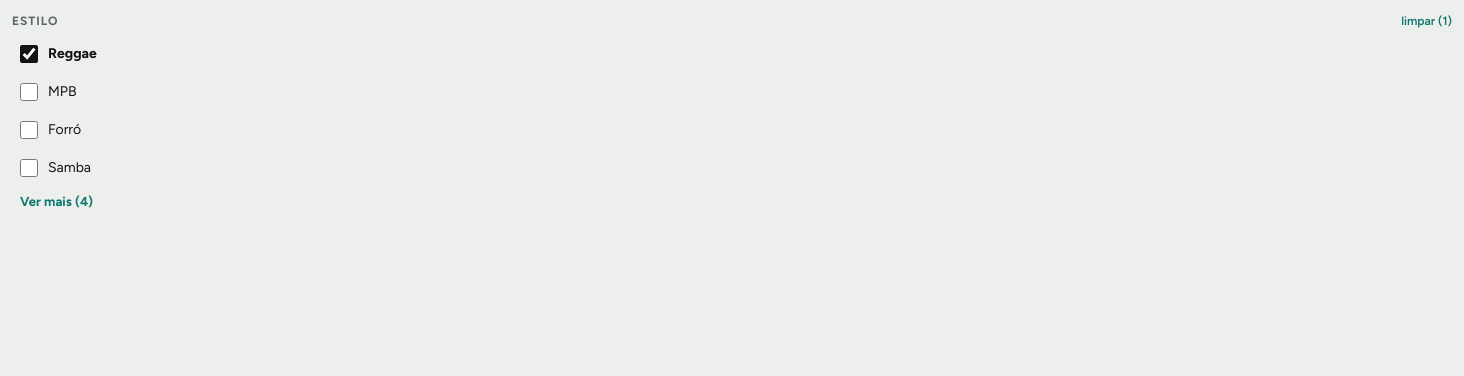
filtros com marcadores › marca e desmarca vários valores; "Ver mais" mostra o resto; selecionados sempre visíveis
Later steps or results of the test are not shown.
Expected: the checkbox labelled "Reggae" is checked, [20,45,38,63]
Expected: the checkbox labelled "Jazz" is not shown
Click the checkbox labelled "MPB" at (29, 92), box [20,83,38,101]
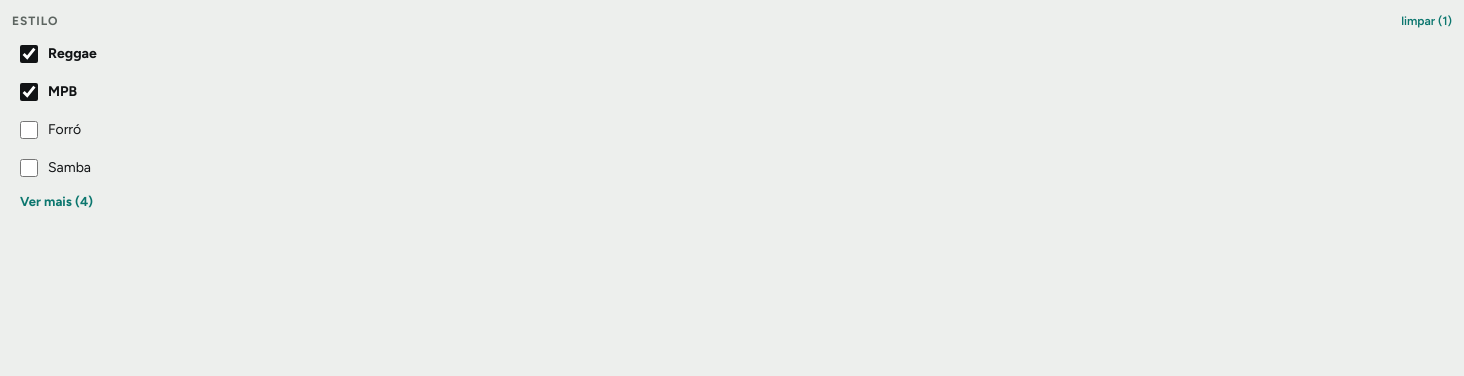
Result: the checkbox labelled "MPB" is checked at [20,83,38,101]
Click the checkbox labelled "Reggae" at (29, 54), box [20,45,38,63]
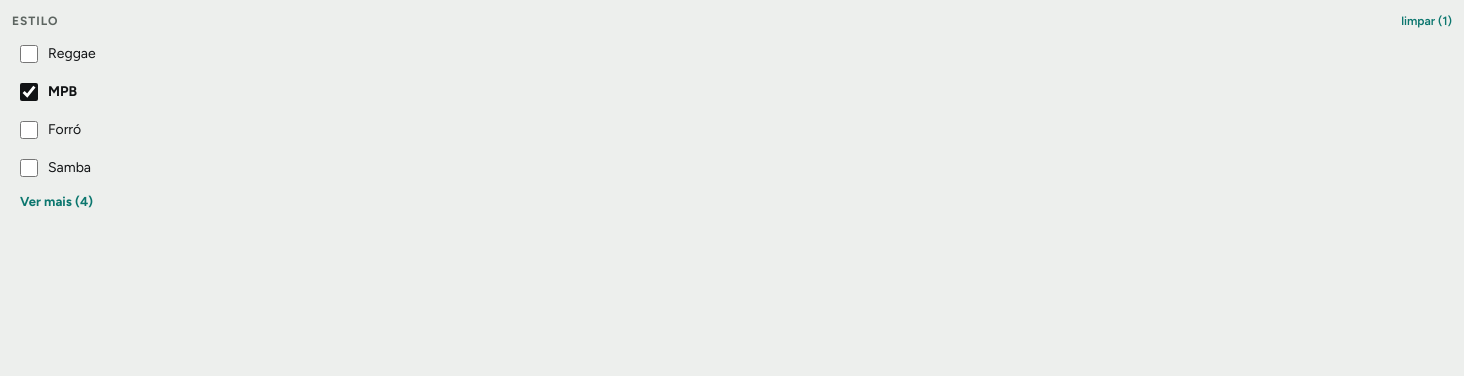
Click the button "Ver mais (4)" at (57, 202), box [20,192,93,212]
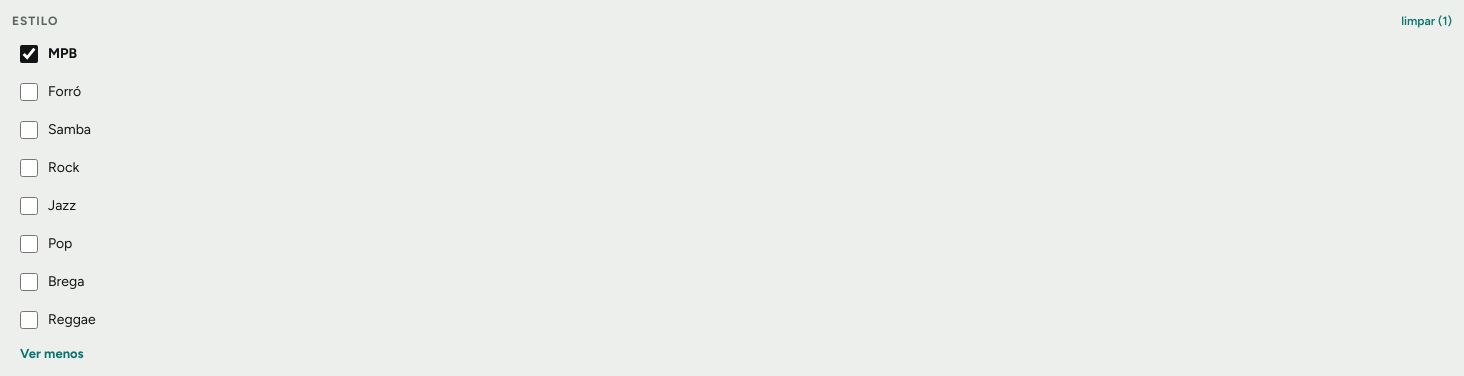
Result: the checkbox labelled "Jazz" is shown at [20,197,38,215]
